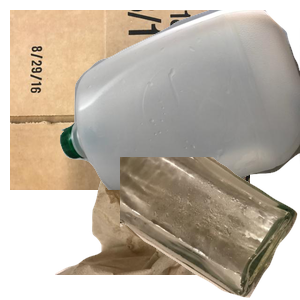cardboard: (10, 10, 250, 190)
glass: (120, 157, 300, 300)
plastic: (60, 10, 300, 190)
trash: (52, 120, 292, 300)
